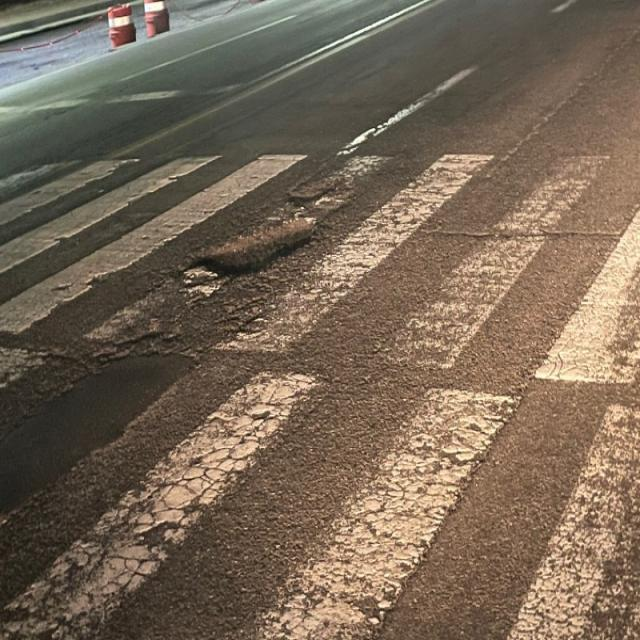pothole: (191, 205, 323, 305)
